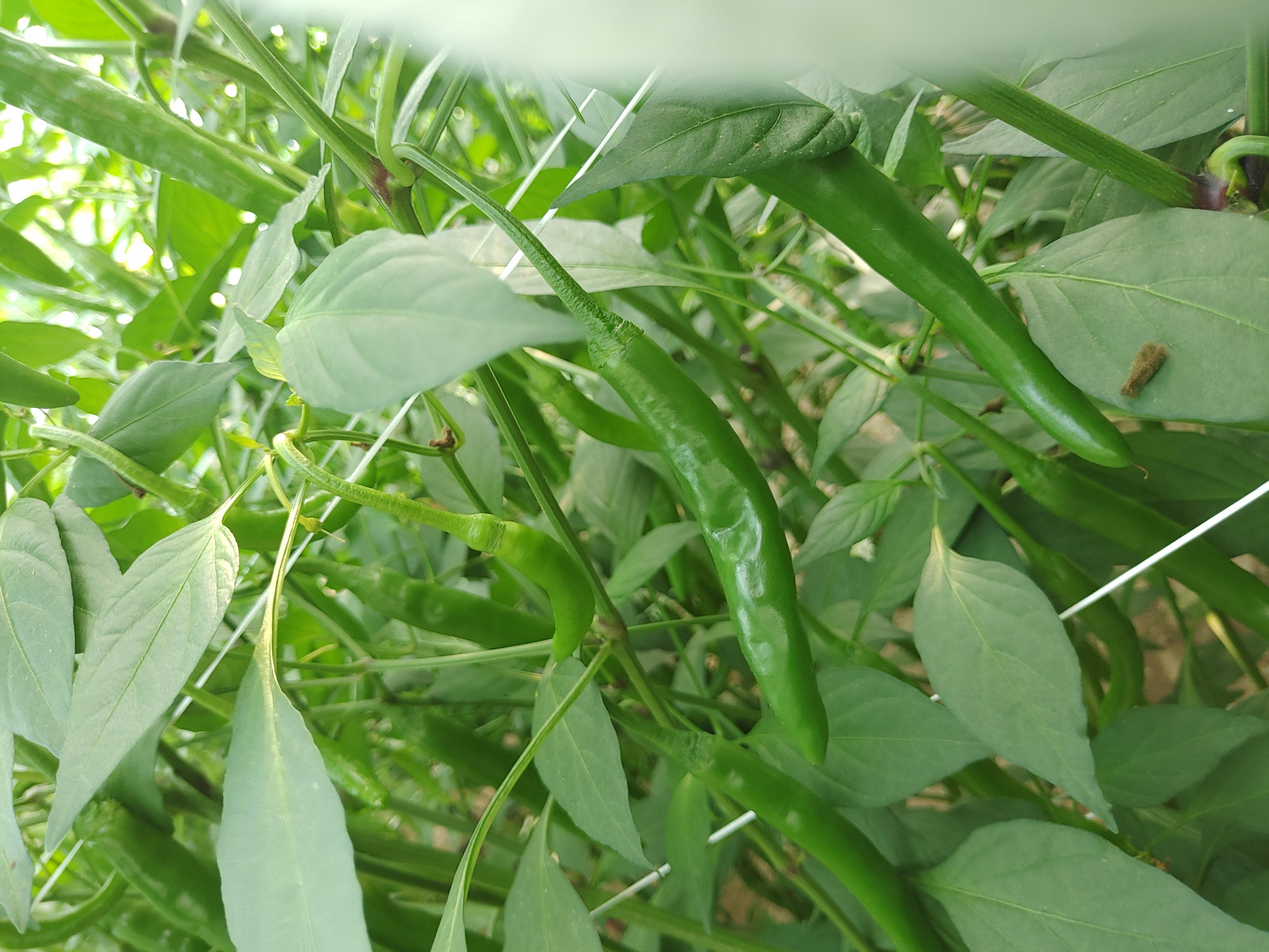Buah Cabai Sehat: (741, 134, 1144, 488), (581, 296, 840, 766), (661, 725, 952, 952), (467, 503, 588, 686)
Daun Cabai Sehat: (42, 507, 241, 880), (910, 531, 1120, 834), (279, 224, 589, 415), (1013, 204, 1269, 425), (924, 814, 1269, 952)
